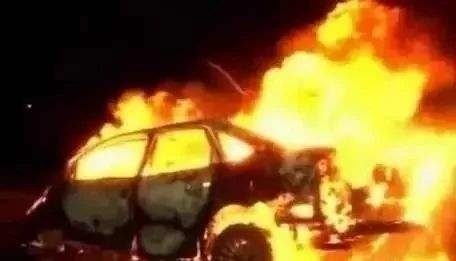fire: (215, 4, 451, 251), (67, 85, 207, 183)
